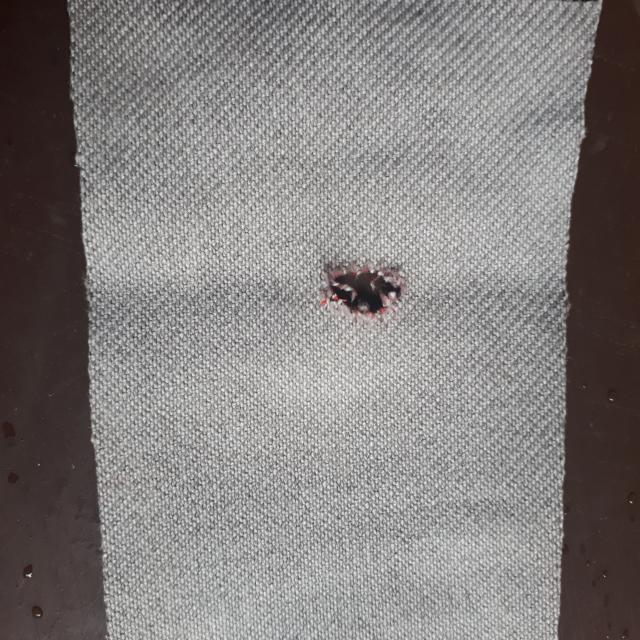seam: (296, 238, 440, 360)
